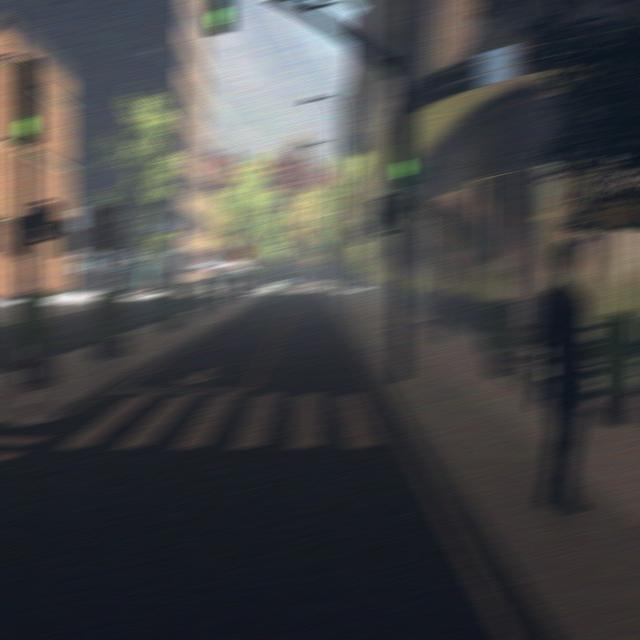speedLimit30: (52, 220, 72, 254)
